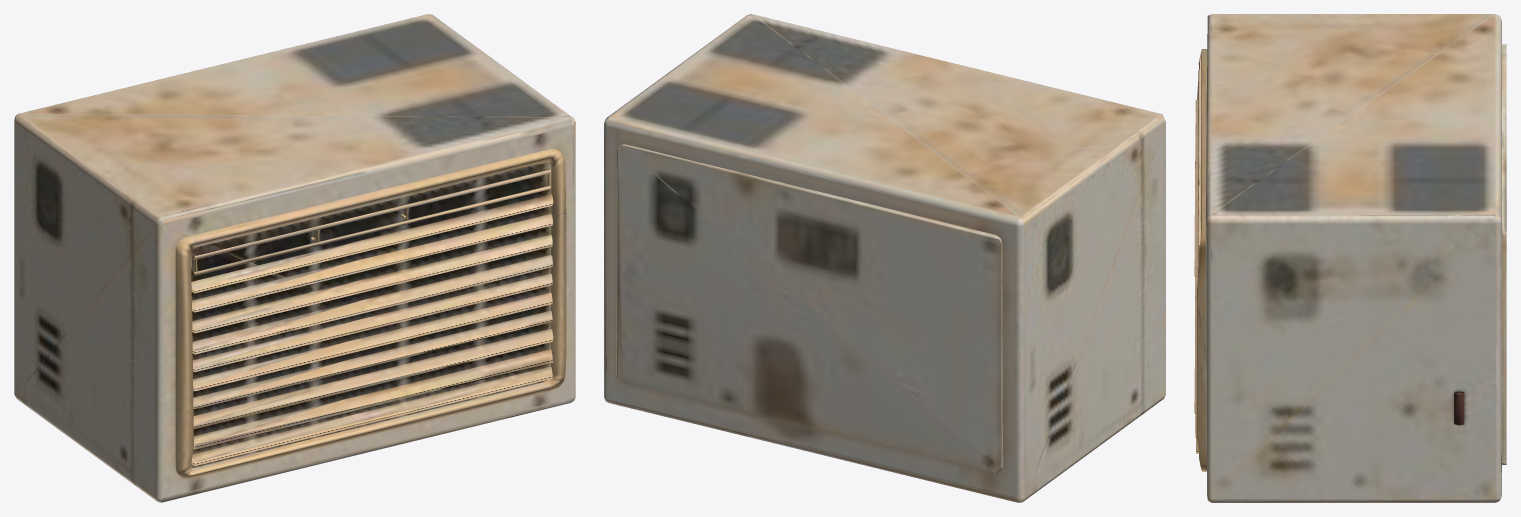
Rendered from ac_window.glb.
3 views of the same model, side by side, from view 1: azimuth 30°, elevation 25°; view 2: azimuth 150°, elevation 25°; view 3: azimuth 270°, elevation 25° (orthographic).
Bounding box in the file's own units: 0.65 × 0.44 × 0.4086.
Materials: 1 (1 with a texture image).
